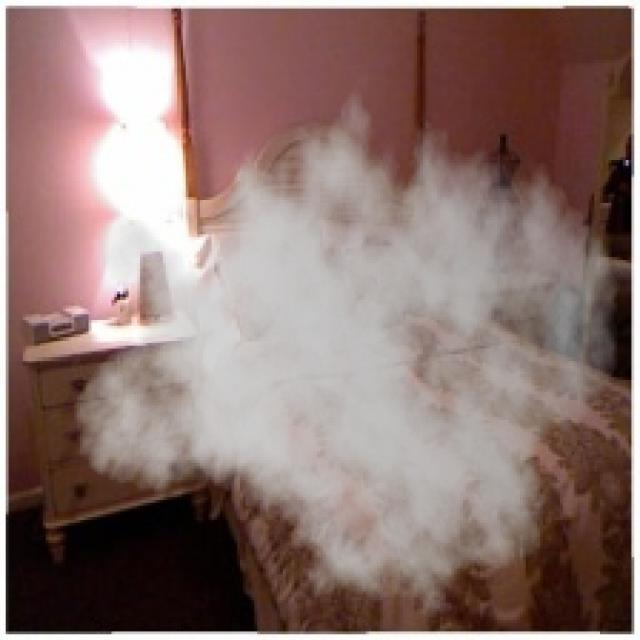Smoke: (71, 66, 620, 632)
